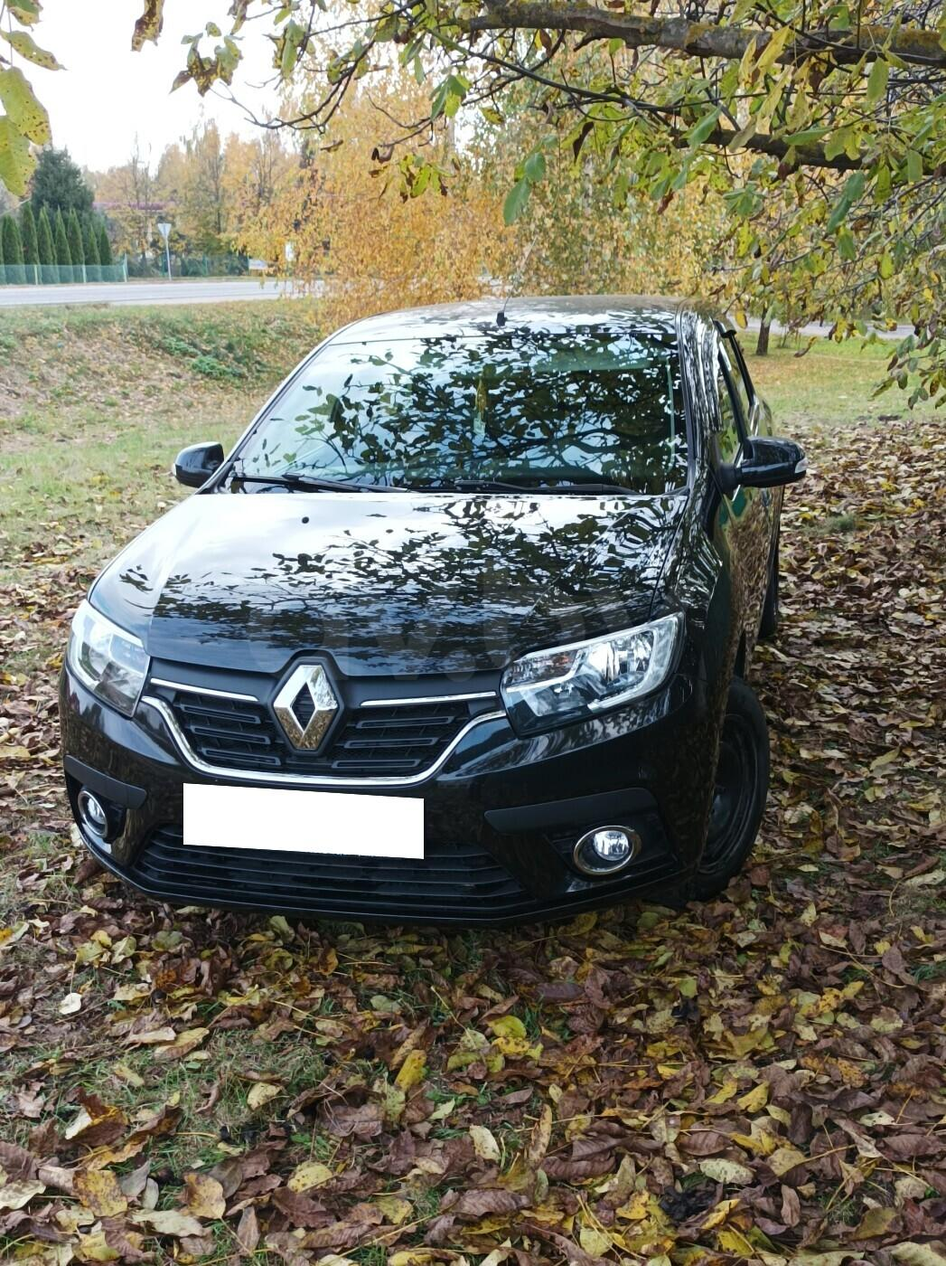Logan_2018: (51, 288, 804, 906)
